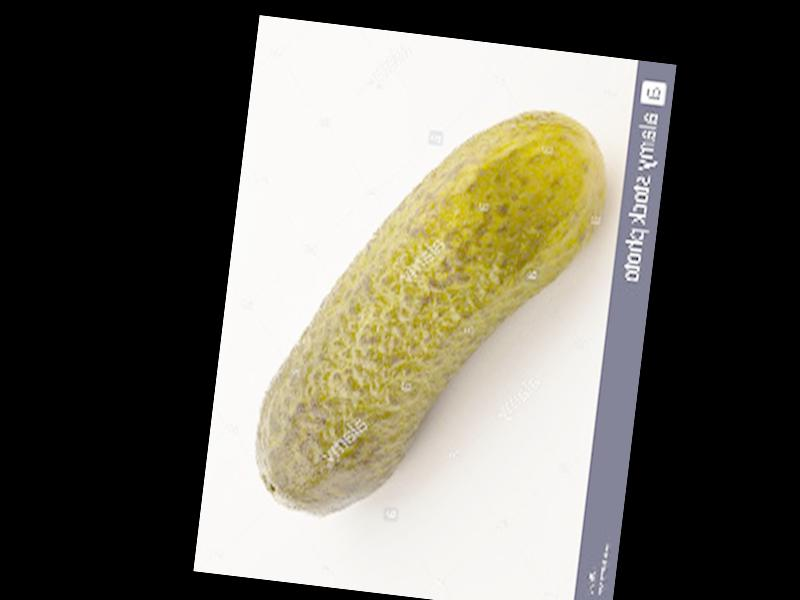Cucumber: (249, 79, 613, 543)
